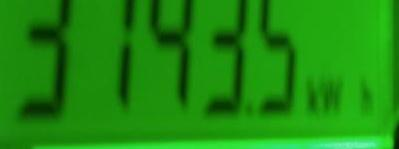.: (304, 72, 380, 115)
2: (114, 0, 138, 108)
4: (14, 0, 76, 119), (203, 0, 251, 116)
5: (143, 0, 201, 110)
6: (257, 0, 303, 115)
